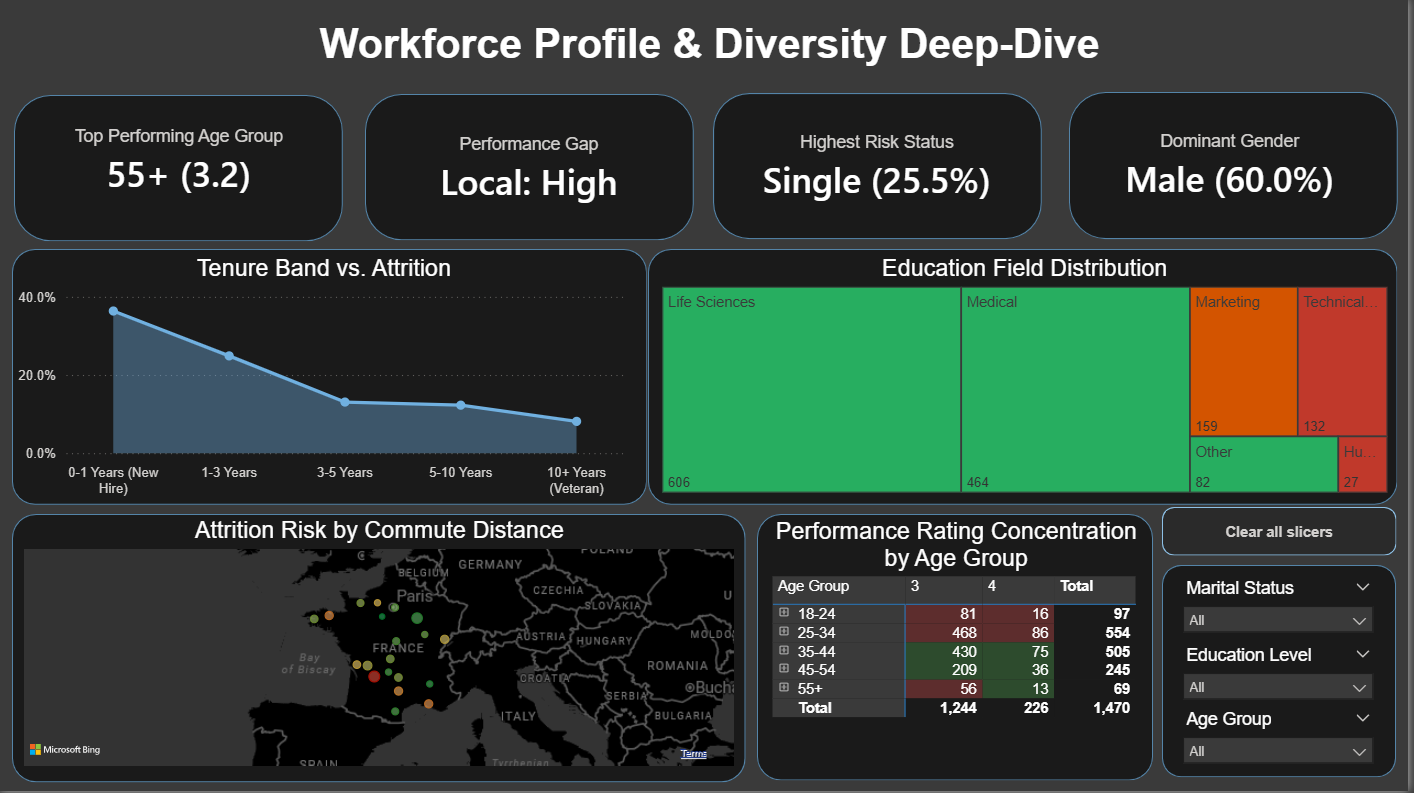

This screenshot's page, from the dashboard's own definition file:
{"tool":"powerbi","page":{"name":"👥 Demographics & Diversity","canvas":[1280,720],"ordinal":2},"visuals":[{"type":"group","id":"g1","title":"Background","box":[11,84.4,1260.2,627.6],"z":0},{"type":"shape","box":[11.4,226.8,577.3,232.5],"z":0,"group":"g1"},{"type":"textbox","box":[9.7,0,1270.3,68.1],"z":1000},{"type":"shape","box":[589.5,226.8,681.4,232.5],"z":1000,"group":"g1"},{"type":"areaChart","title":"Tenure Band vs. Attrition","fields":{"Category":["v_FactHRPerformance.Tenure Band"],"Y":["_Measures.Attrition Rate %"]},"box":[10.8,232.5,567.4,227.1],"z":2000},{"type":"shape","box":[11,468,667,244],"z":2000,"group":"g1"},{"type":"treemap","title":"Education Field Distribution","fields":{"Group":["v_DimEmployeeDetails.Education Field"],"Values":["_Measures.Total Employees"]},"box":[597,232.5,668.8,220.8],"z":3000},{"type":"shape","box":[688.3,468.3,360,242.4],"z":3000,"group":"g1"},{"type":"pivotTable","title":"Performance Rating Concentration by Age Group","fields":{"Rows":["v_DimEmployeeDetails.Age Group","v_DimJobDetails.Job Role"],"Columns":["v_FactHRPerformance.Performance Score"],"Values":["_Measures.Total Employees"]},"box":[697.4,471.7,344.3,230.5],"z":4000},{"type":"shape","box":[1056.4,514.1,212.8,193],"z":4000,"group":"g1"},{"type":"shape","box":[12.6,86.7,299,133],"z":5000,"group":"g1"},{"type":"map","title":"Attrition Risk by Commute Distance","fields":{"Category":["v_DimEmployeeDetails.Distance From Home"],"Size":["_Measures.Attrition Count"]},"box":[17.1,471.3,655.4,230.7],"z":5000},{"type":"shape","box":[331.8,86.4,299,133],"z":6000,"group":"g1"},{"type":"slicer","fields":{"Values":["v_DimEmployeeDetails.Marital Status"]},"box":[1065.8,521.6,192.5,64.8],"z":6000},{"type":"shape","box":[648.3,84.9,299,132.9],"z":7000,"group":"g1"},{"type":"slicer","fields":{"Values":["v_DimEmployeeDetails.Education Level"]},"box":[1065.8,582.5,192.5,64],"z":7000},{"type":"shape","box":[972.2,84.4,299,133.8],"z":8000,"group":"g1"},{"type":"slicer","fields":{"Values":["v_DimEmployeeDetails.Age Group"]},"box":[1065.8,640.5,192.5,64],"z":8000},{"type":"actionButton","box":[1056,461.7,213.2,44.2],"z":9000},{"type":"cardVisual","fields":{"Data":["_Measures.Avg Age"]},"box":[18.9,70.9,287.3,153.5],"z":10000},{"type":"cardVisual","fields":{"Data":["_Measures.Female Employees"]},"box":[332.2,74.5,299,161.6],"z":11000},{"type":"cardVisual","fields":{"Data":["_Measures.Male Employees"]},"box":[648.2,70,299,166.1],"z":12000},{"type":"cardVisual","fields":{"Data":["_Measures.Male %"]},"box":[972.3,73.6,292.7,158.9],"z":13000}]}

Visuals, with their boxes in screenshot pixels (x1, y1, x2, y2), scaled from the page's 1280x720 canvas onto the 1414x793 screenshot:
"Background" group: rect(12, 93, 1404, 784)
shape: rect(13, 250, 650, 506)
textbox: rect(11, 0, 1413, 75)
shape: rect(651, 250, 1404, 506)
"Tenure Band vs. Attrition" areaChart: rect(12, 256, 639, 506)
shape: rect(12, 515, 749, 784)
"Education Field Distribution" treemap: rect(659, 256, 1398, 499)
shape: rect(760, 516, 1158, 783)
"Performance Rating Concentration by Age Group" pivotTable: rect(770, 520, 1151, 773)
shape: rect(1167, 566, 1402, 779)
shape: rect(14, 95, 344, 242)
"Attrition Risk by Commute Distance" map: rect(19, 519, 743, 773)
shape: rect(367, 95, 697, 242)
slicer - v_DimEmployeeDetails.Marital Status: rect(1177, 574, 1390, 646)
shape: rect(716, 94, 1046, 240)
slicer - v_DimEmployeeDetails.Education Level: rect(1177, 642, 1390, 712)
shape: rect(1074, 93, 1404, 240)
slicer - v_DimEmployeeDetails.Age Group: rect(1177, 705, 1390, 776)
actionButton: rect(1167, 509, 1402, 557)
cardVisual - _Measures.Avg Age: rect(21, 78, 338, 247)
cardVisual - _Measures.Female Employees: rect(367, 82, 697, 260)
cardVisual - _Measures.Male Employees: rect(716, 77, 1046, 260)
cardVisual - _Measures.Male %: rect(1074, 81, 1397, 256)
